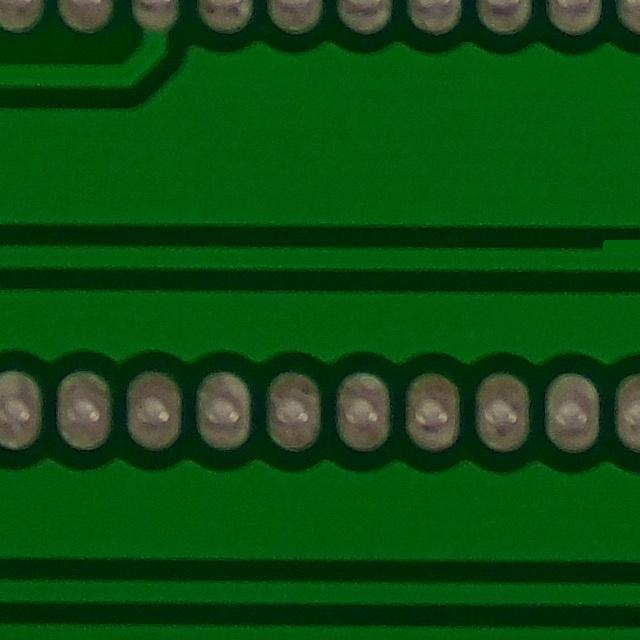spur: (569, 227, 640, 271)
